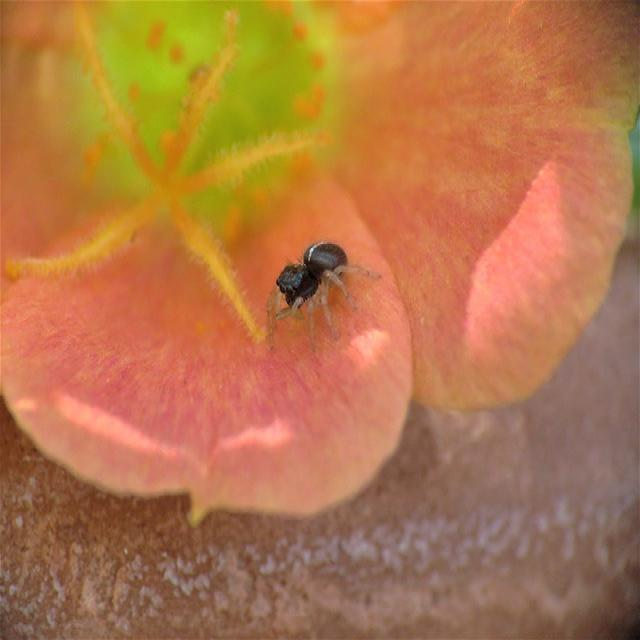spyder: (267, 241, 382, 352)
